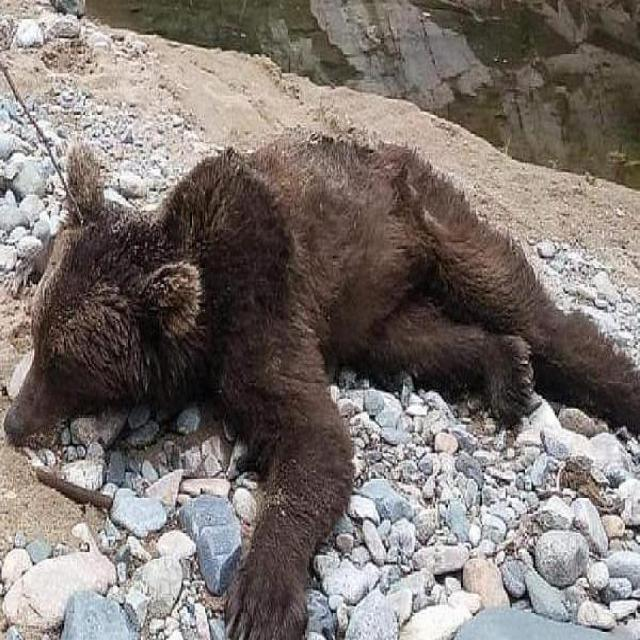Bear: (3, 134, 640, 640)
